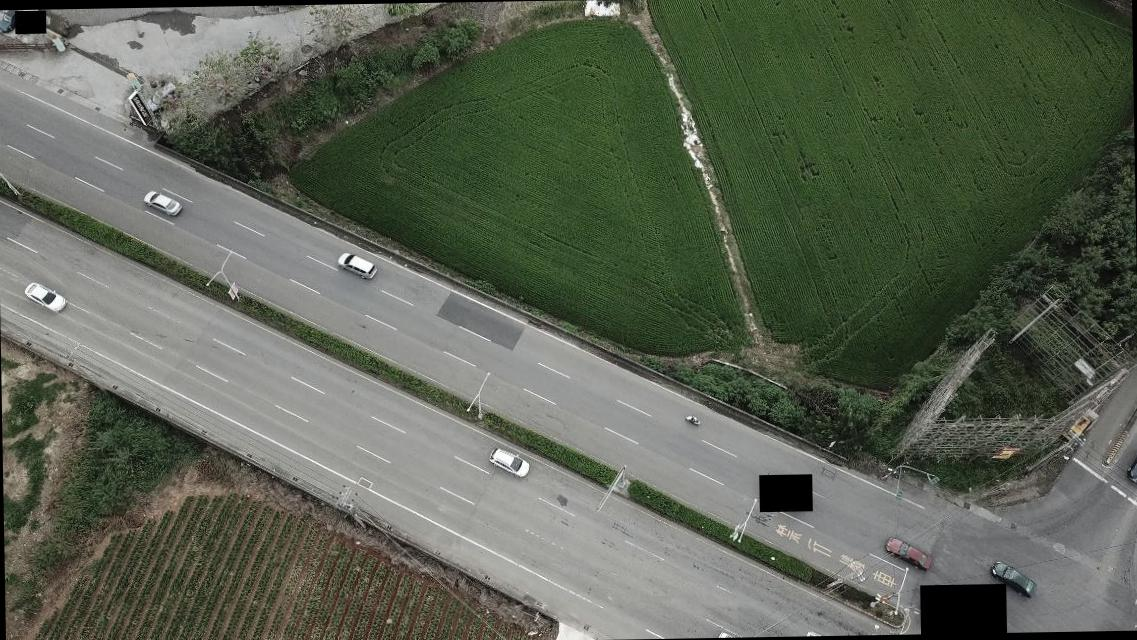vehicle: (989, 559, 1036, 599), (884, 536, 932, 570), (22, 280, 65, 314), (489, 446, 529, 478), (142, 188, 182, 218), (336, 251, 376, 279), (144, 80, 176, 112), (1063, 414, 1092, 442), (0, 11, 18, 35), (1125, 452, 1136, 484)
